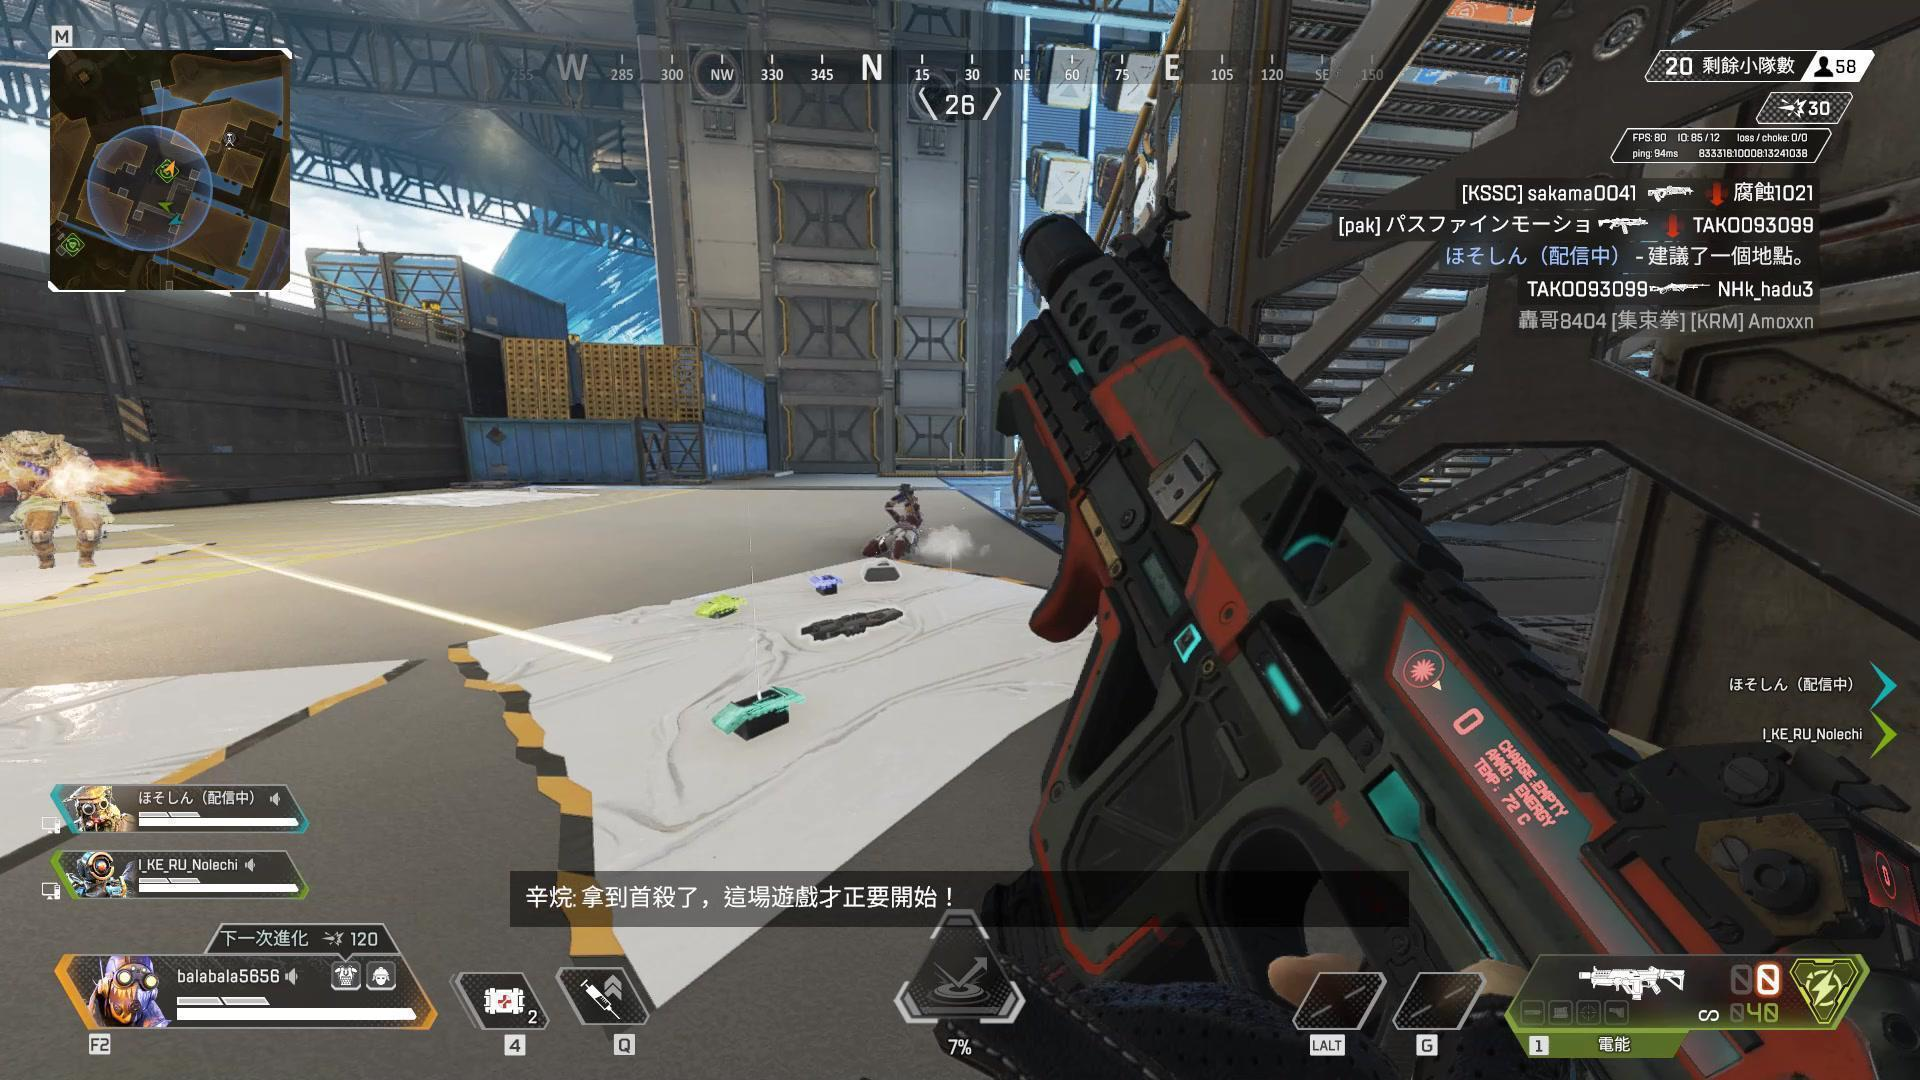avatar: (1, 426, 114, 571), (862, 483, 927, 562)
